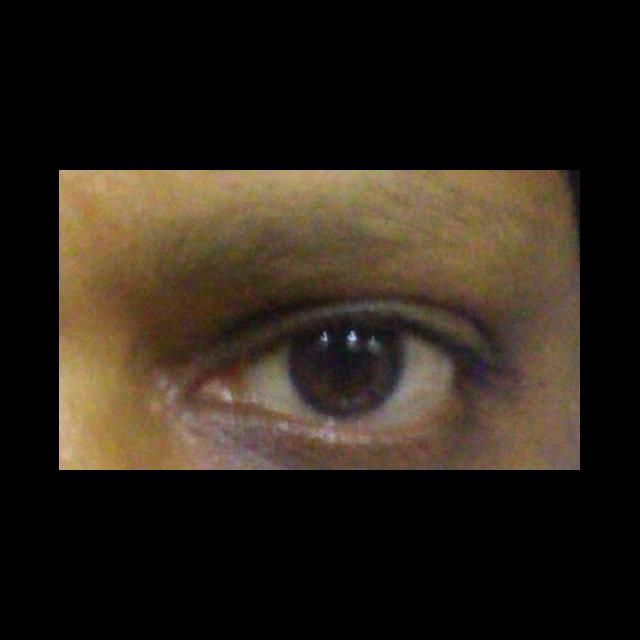eye: (222, 315, 459, 427)
iris: (289, 316, 404, 420)
